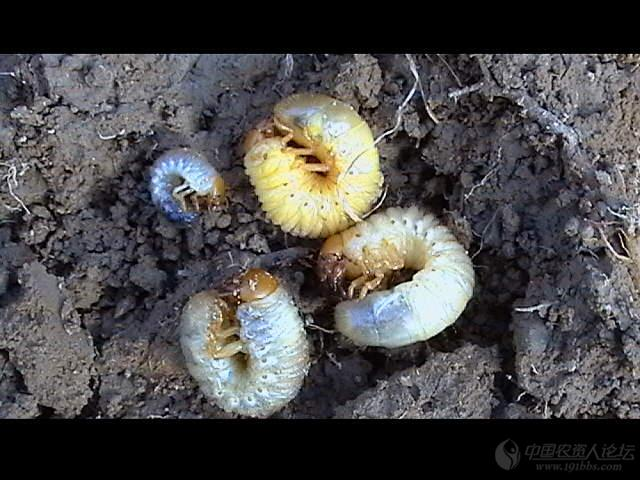grub: (315, 204, 478, 350)
